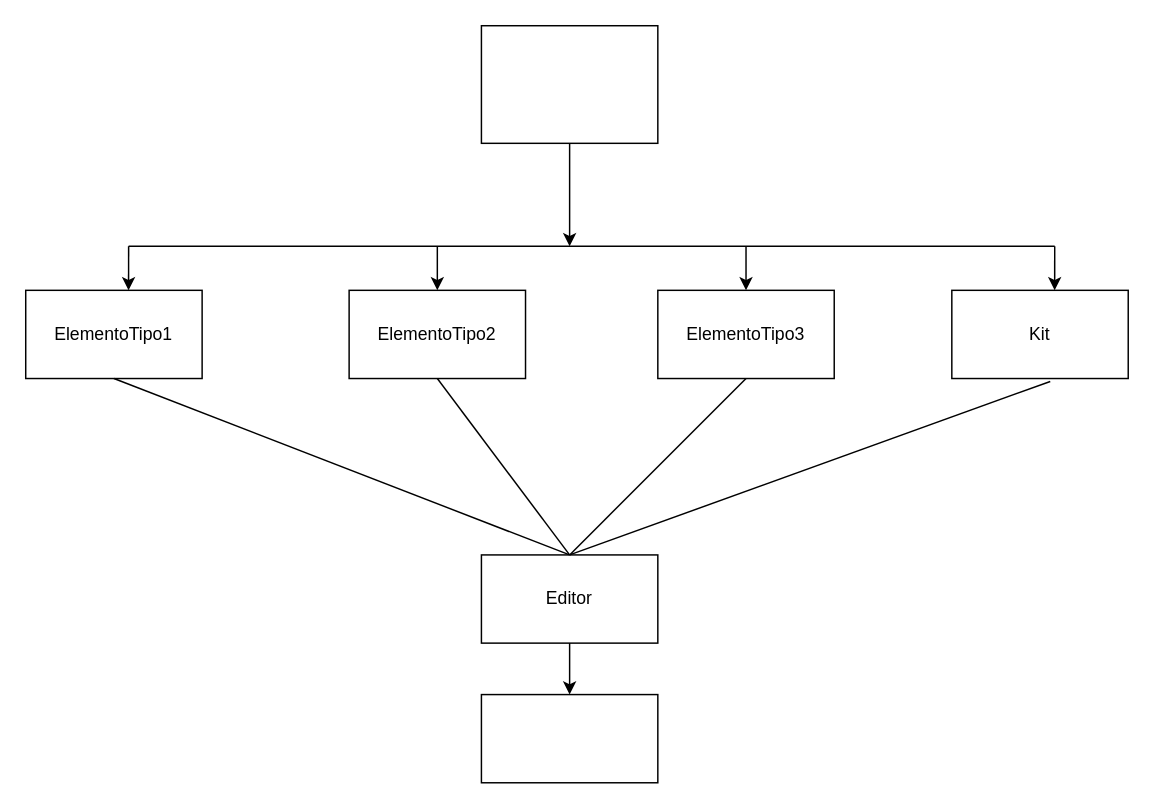
Some shapes in this 1154 by 809 pixel diagram are drawn without their labels. Each missing label, with the centre of its shape:
"Elemento" belongs at point (569, 83).
"Main" belongs at point (569, 738).
